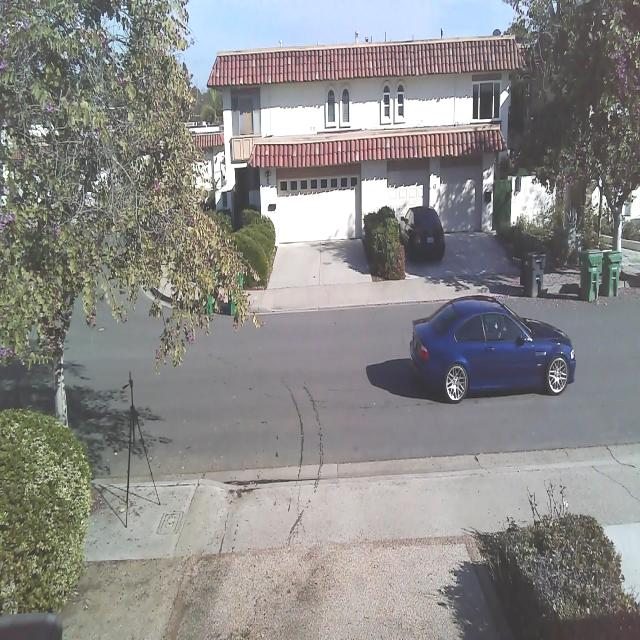Carbeetle: (404, 290, 579, 411)
Civilian: (397, 206, 445, 264)
